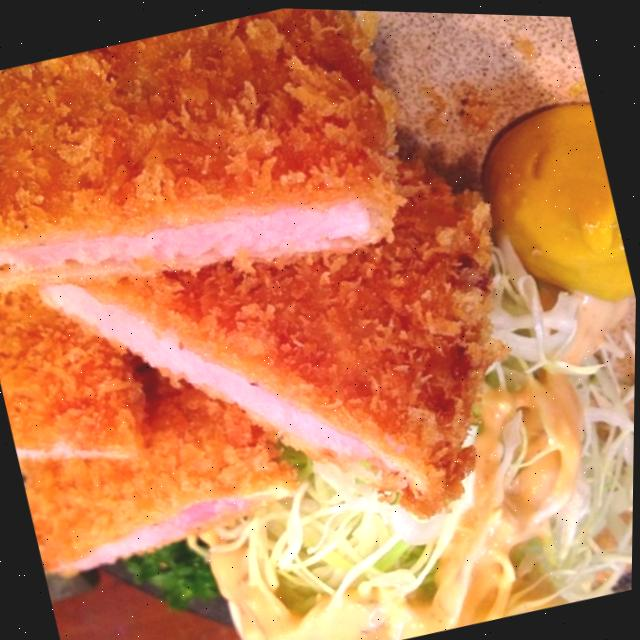炸货点心: (0, 0, 565, 619)
